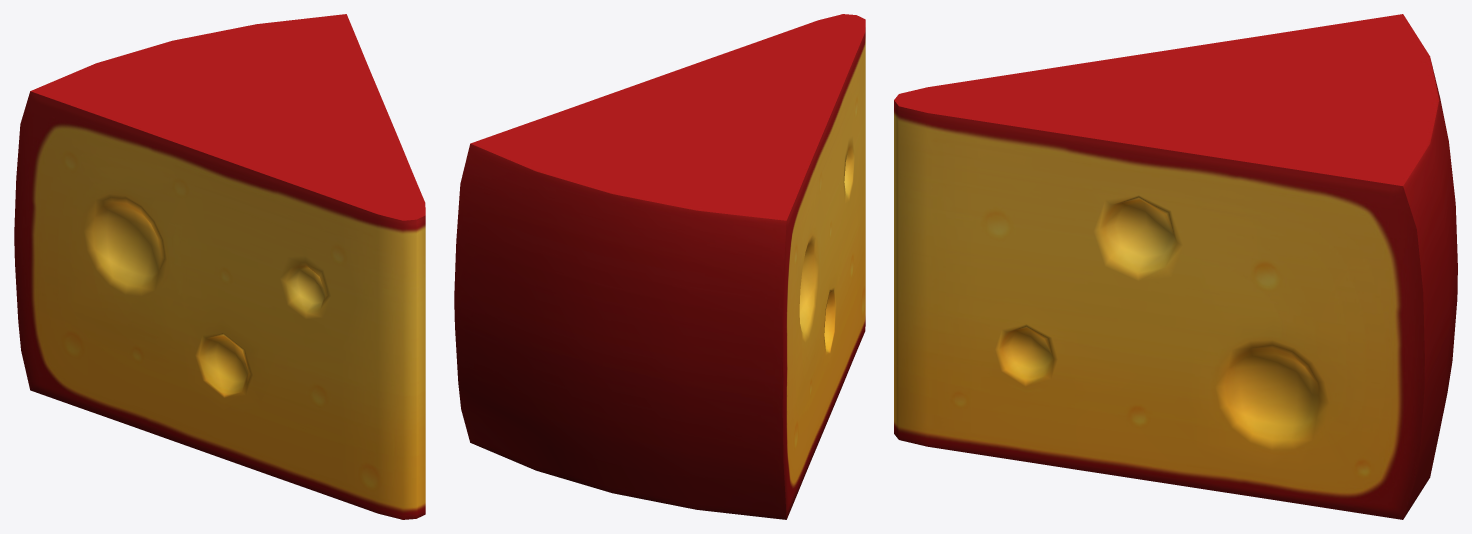
Rendered from Cheese_1.fbx.
3 views of the same model, side by side, from view 1: azimuth 30°, elevation 25°; view 2: azimuth 150°, elevation 25°; view 3: azimuth 270°, elevation 25° (orthographic). The views are drawn at different scales.
Parts seen in each view (by area): view 1: Cheese_1; view 2: Cheese_1; view 3: Cheese_1.
Boxes of the visible parts, x1=… form: Cheese_1: x1=14, y1=14, x2=425, y2=519; Cheese_1: x1=454, y1=14, x2=865, y2=519; Cheese_1: x1=894, y1=14, x2=1457, y2=519.
Bounding box in the file's own units: 27.42 × 23.83 × 36.49.
Materials: 1 (1 with a texture image).
